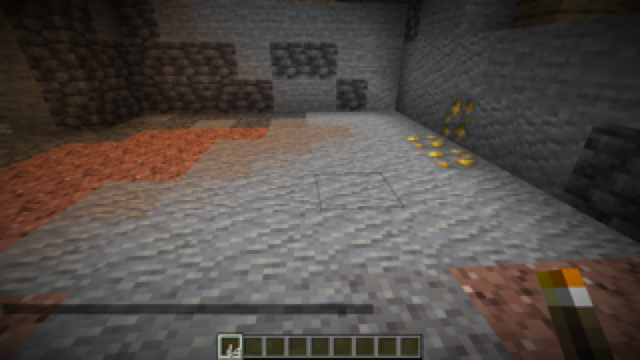gold: (402, 100, 482, 169)
